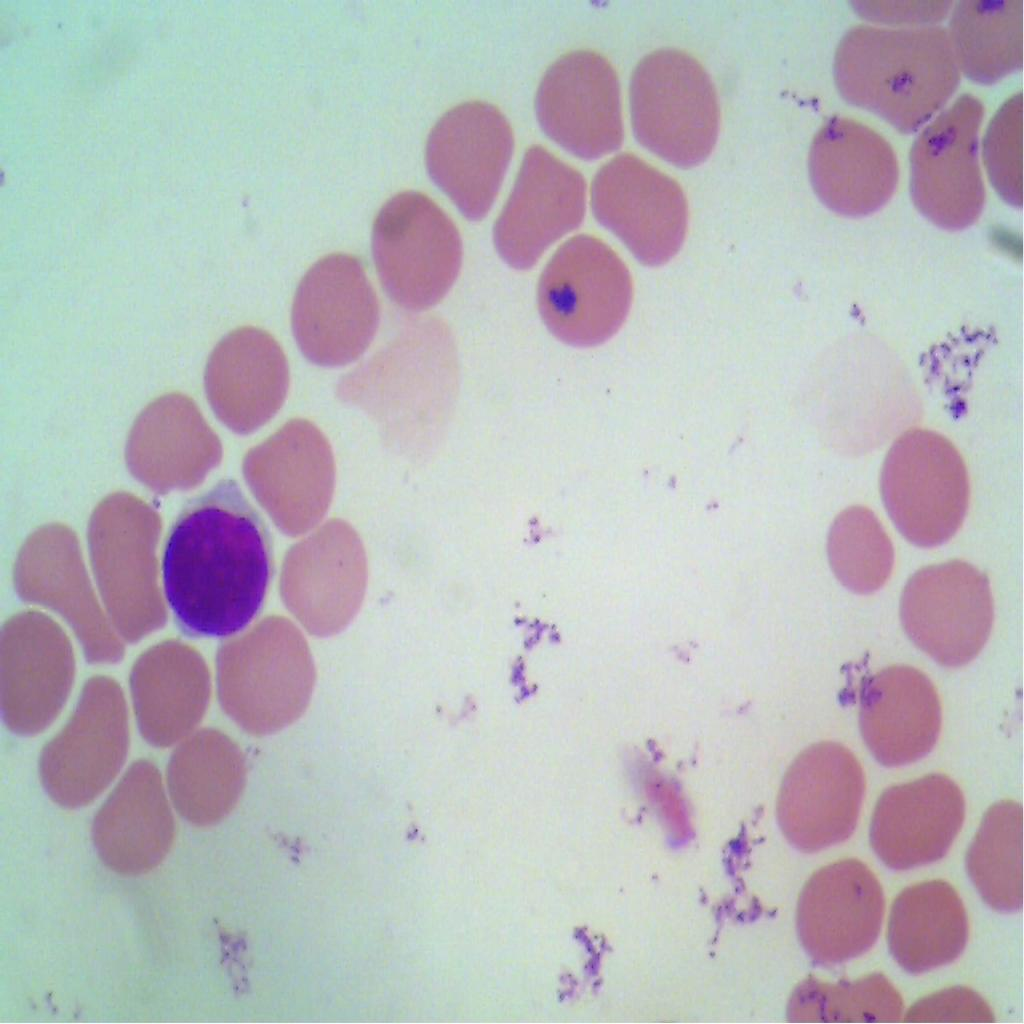Eritrosit: (6, 518, 120, 669), (829, 18, 964, 128), (618, 42, 729, 170), (535, 225, 641, 357), (893, 544, 1001, 672), (488, 138, 591, 271), (210, 621, 324, 737), (908, 84, 996, 234), (373, 184, 471, 314), (118, 385, 230, 498), (863, 760, 974, 874), (83, 494, 175, 630), (598, 144, 696, 271), (766, 735, 870, 854), (424, 94, 518, 225), (876, 424, 970, 554), (38, 675, 129, 808), (0, 604, 86, 744), (293, 247, 391, 368), (278, 518, 378, 635), (788, 850, 886, 965), (851, 655, 948, 771), (806, 105, 898, 227), (534, 44, 623, 162), (90, 754, 178, 871), (888, 865, 974, 984), (163, 721, 251, 832), (198, 328, 290, 434), (249, 421, 333, 530), (954, 787, 1023, 912), (126, 639, 206, 743), (819, 498, 893, 607)
Limfosit: (158, 474, 278, 636)
